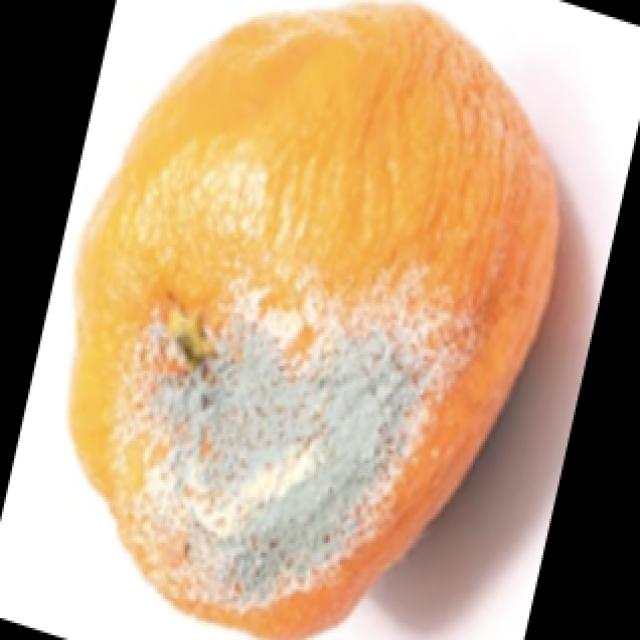sedikit_busuk: (70, 7, 555, 636)
